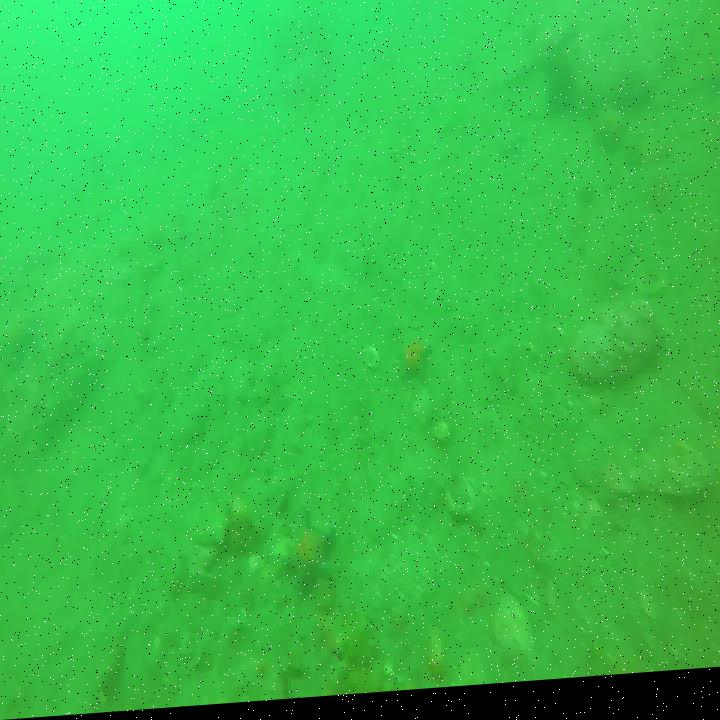starfish: (282, 516, 334, 603), (399, 337, 433, 396), (495, 124, 529, 171)
